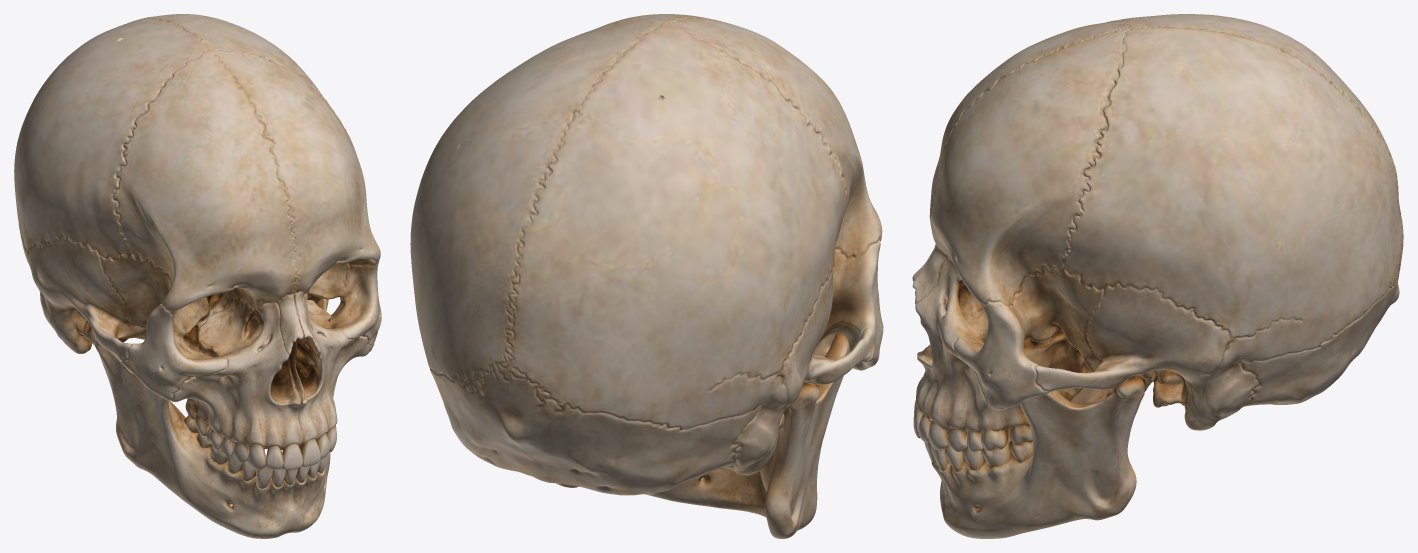
The model's file is skull.glb.
3 renders of one model, left to right at view 1: azimuth 30°, elevation 25°; view 2: azimuth 150°, elevation 25°; view 3: azimuth 270°, elevation 25°, orthographic. The views are drawn at different scales.
Parts seen in each view (by area): view 1: human-skull; view 2: human-skull; view 3: human-skull.
Part boxes in pixels (box(x1,y1,x2,y2)): human-skull: box(14, 14, 381, 538); human-skull: box(410, 14, 883, 538); human-skull: box(912, 14, 1403, 538).
Bounding box in the file's own units: 0.1503 × 0.22 × 0.1973.
Materials: 1 (1 with a texture image).
